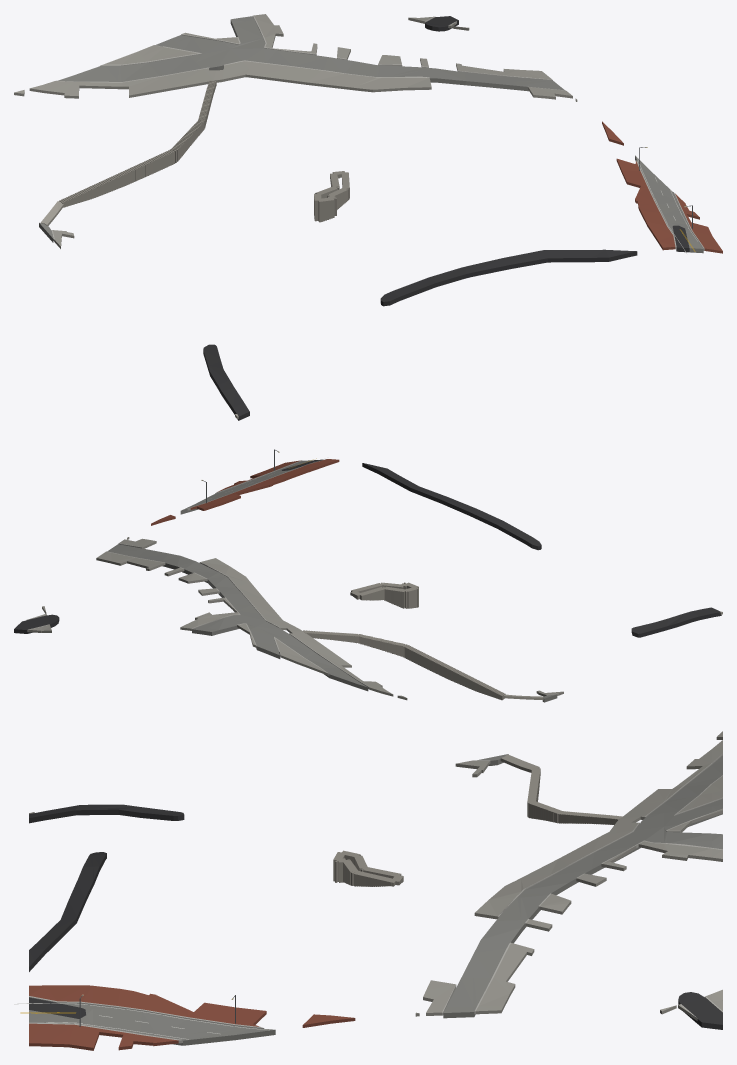
3 renders of one model, top to bottom at view 1: azimuth 30°, elevation 25°; view 2: azimuth 150°, elevation 25°; view 3: azimuth 270°, elevation 25°, orthographic. The views are drawn at different scales.
Bounding box in the file's own units: 147 × 34.73 × 149.
